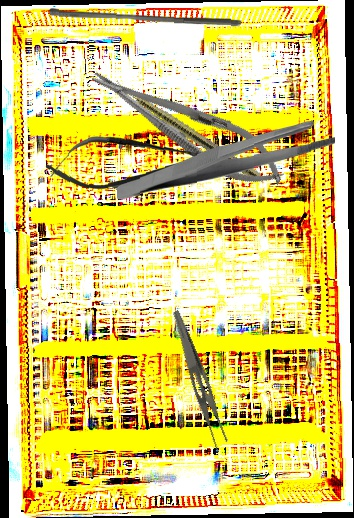Dressing Forceps: (115, 120, 336, 200), (157, 309, 237, 454)
Handpiece: (111, 78, 263, 183)
Micro Scissor: (44, 129, 228, 194)
Needle Holder: (81, 51, 295, 202)
Pusher: (47, 8, 243, 27)
